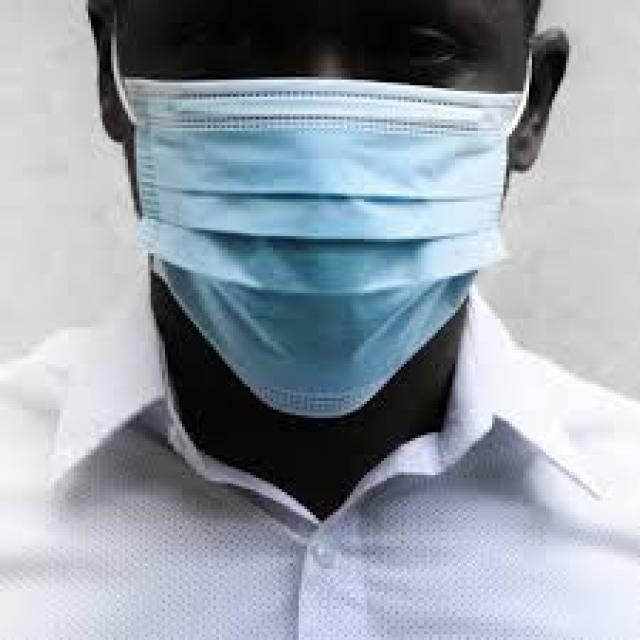1_mascarilla: (107, 78, 534, 418)
